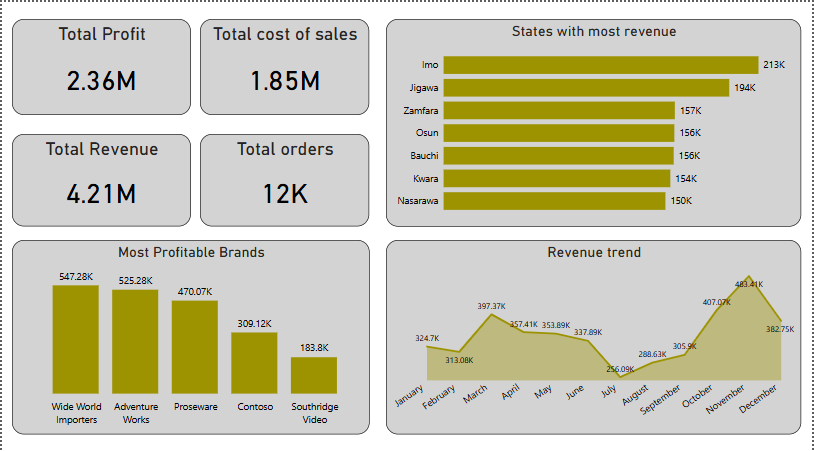

The dashboard page shown, as its layout file describes it:
{"tool":"powerbi","page":{"name":"Page 1","canvas":[1350,750],"ordinal":0},"visuals":[{"type":"columnChart","title":"Most Profitable Brands","fields":{"Category":["state breakdown pbi.brandname"],"Y":["Sum(state breakdown pbi.Profit)"]},"box":[16,396,596,324],"z":0},{"type":"clusteredBarChart","title":"States with most revenue","fields":{"Y":["Sum(state breakdown pbi.revenue)"],"Category":["state breakdown pbi.state"]},"box":[640,28,692,346],"z":1000},{"type":"lineChart","title":"Revenue trend","fields":{"Category":["state breakdown pbi.Month"],"Y":["Sum(state breakdown pbi.revenue)"]},"box":[640,396,692,324],"z":2000},{"type":"card","title":"Total Profit","fields":{"Values":["Sum(state breakdown pbi.Profit)"]},"box":[16,28,298,160],"z":2001},{"type":"card","title":"Total Revenue","fields":{"Values":["Sum(state breakdown pbi.revenue)"]},"box":[16,220,298,154],"z":2002},{"type":"card","title":"Total cost of sales","fields":{"Values":["Sum(state breakdown pbi.costofsales)"]},"box":[330,28,282,160],"z":2003},{"type":"card","title":"Total orders","fields":{"Values":["Sum(state breakdown pbi.orderqty)"]},"box":[330,220,282,154],"z":2004}]}

Visuals, with their boxes in screenshot pixels (x1, y1, x2, y2), scaled from the page's 1350x750 canvas onto the 814x451 screenshot:
"Most Profitable Brands" columnChart: {"x1": 10, "y1": 238, "x2": 369, "y2": 433}
"States with most revenue" clusteredBarChart: {"x1": 386, "y1": 17, "x2": 803, "y2": 225}
"Revenue trend" lineChart: {"x1": 386, "y1": 238, "x2": 803, "y2": 433}
"Total Profit" card: {"x1": 10, "y1": 17, "x2": 189, "y2": 113}
"Total Revenue" card: {"x1": 10, "y1": 132, "x2": 189, "y2": 225}
"Total cost of sales" card: {"x1": 199, "y1": 17, "x2": 369, "y2": 113}
"Total orders" card: {"x1": 199, "y1": 132, "x2": 369, "y2": 225}
